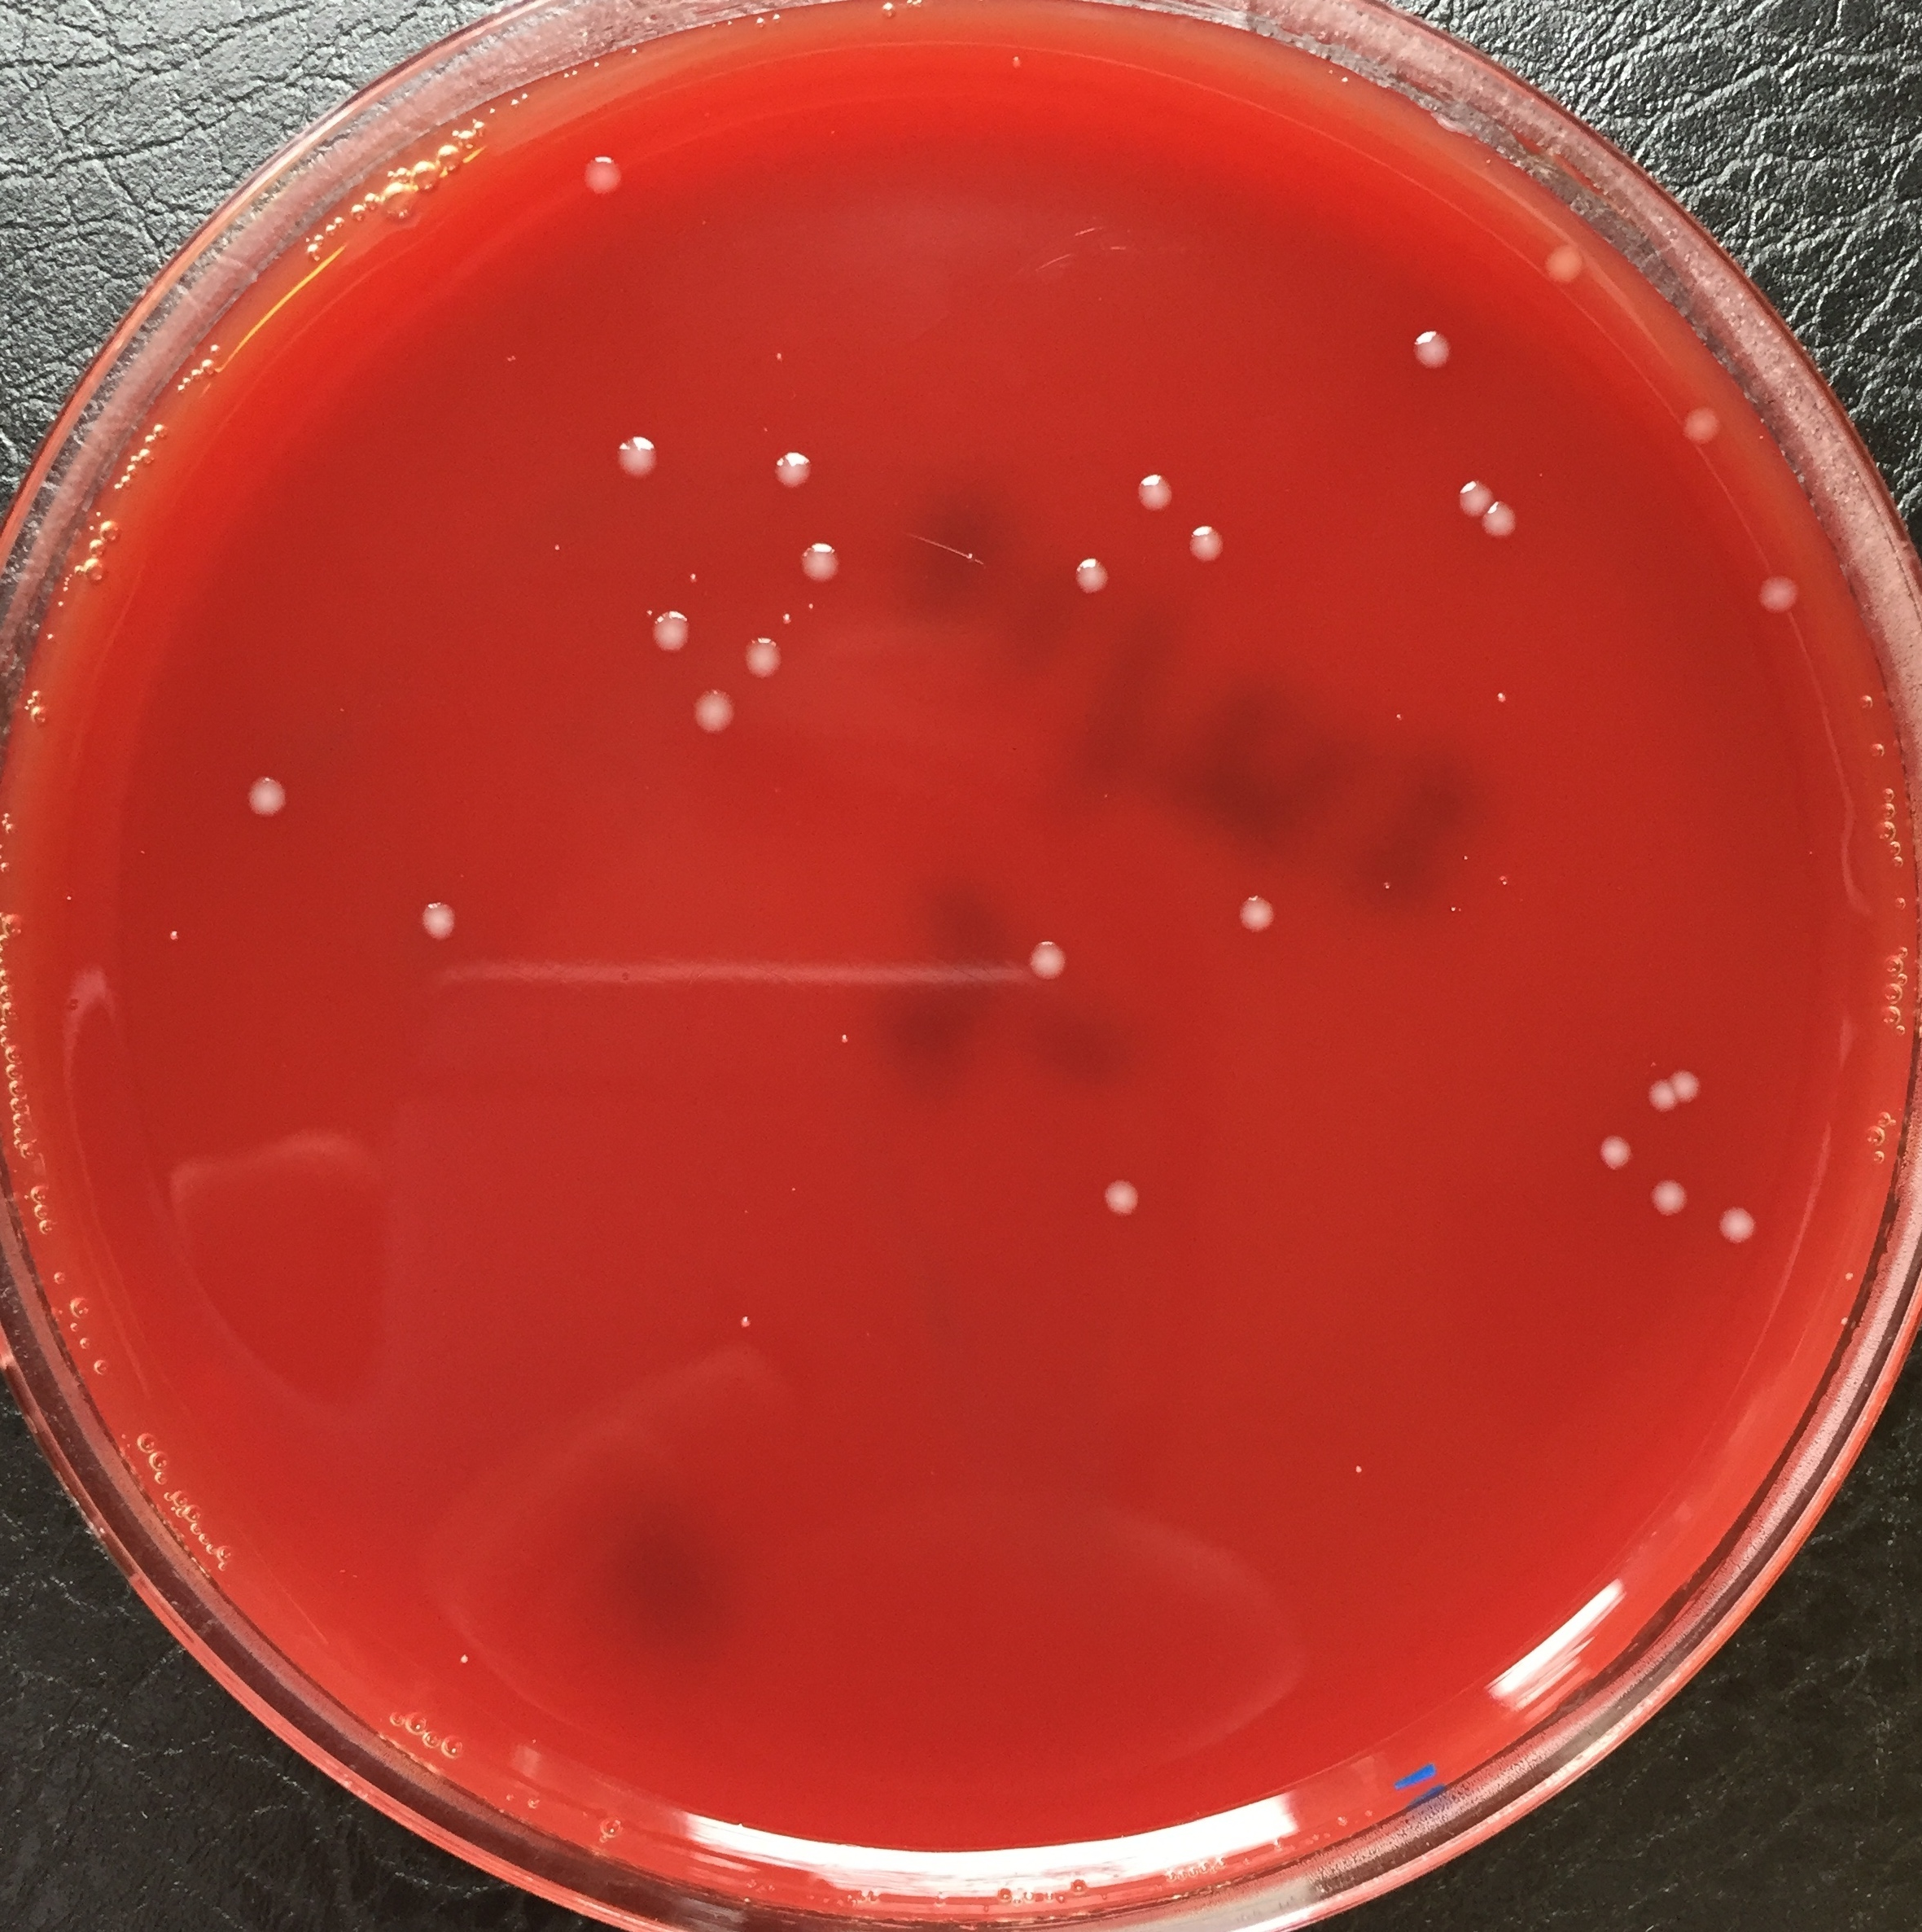sp14: (1019, 933, 1084, 998), (641, 604, 699, 670), (407, 885, 461, 954), (238, 765, 289, 836), (792, 535, 854, 593), (1538, 238, 1586, 304), (688, 683, 739, 743), (570, 144, 620, 206), (605, 426, 660, 480), (737, 626, 785, 686), (1104, 1170, 1148, 1233), (1748, 574, 1804, 621), (1401, 326, 1461, 370), (1647, 1175, 1695, 1230), (771, 443, 817, 500), (1188, 519, 1232, 577), (1447, 475, 1500, 523), (1065, 553, 1111, 607), (1709, 1200, 1762, 1246), (1486, 498, 1531, 549), (1229, 889, 1281, 933), (1589, 1131, 1635, 1181), (1677, 399, 1723, 445), (1130, 470, 1177, 514), (1640, 1080, 1683, 1116), (1674, 1063, 1706, 1101)
